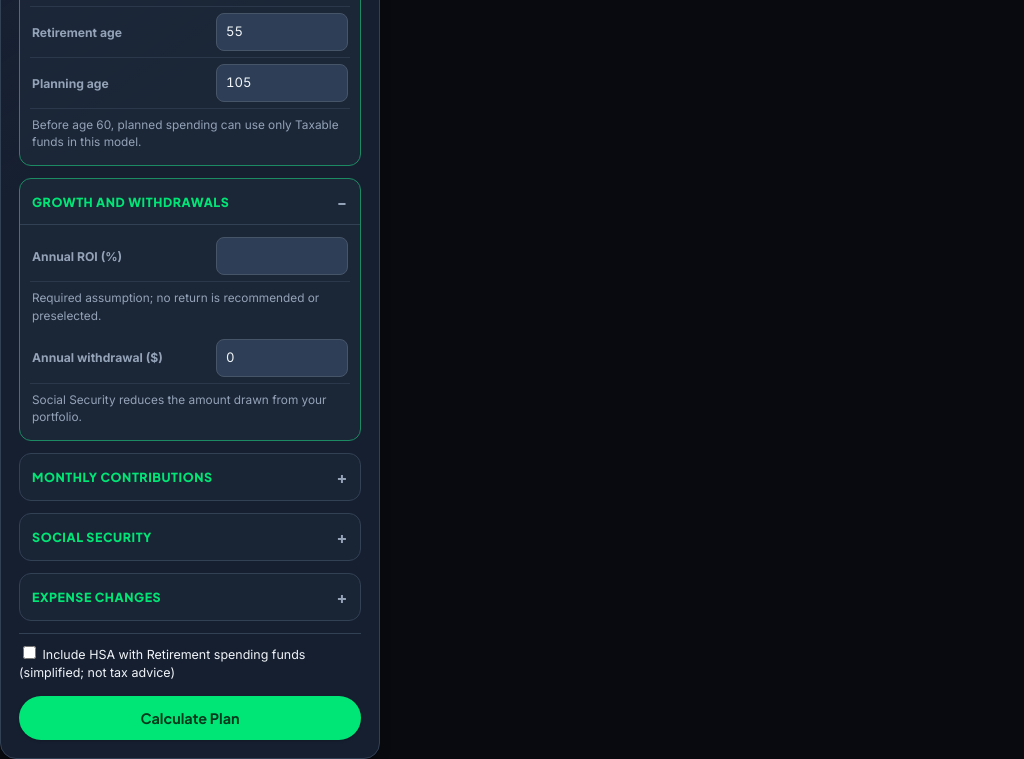
Test: RetirementPlanningPage › loads an unconfigured plan with blank ROI and focuses an actionable error summary
(page scrolled)
Expected: the number field labelled "Annual ROI (%)" is not empty, [216,237,348,275]
Click the button "Calculate Plan" at (190, 718), box [19,696,361,740]
(page scrolled)
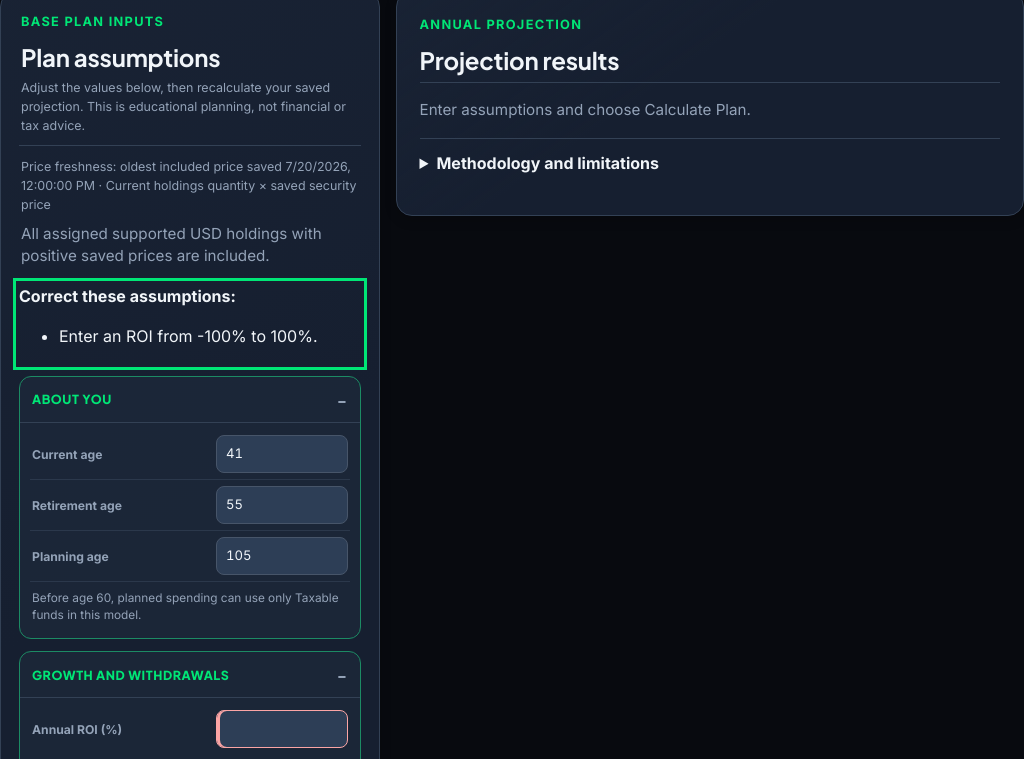
Expected: the message shows "Enter an ROI from -100% to 100%", [59,326,318,346]
